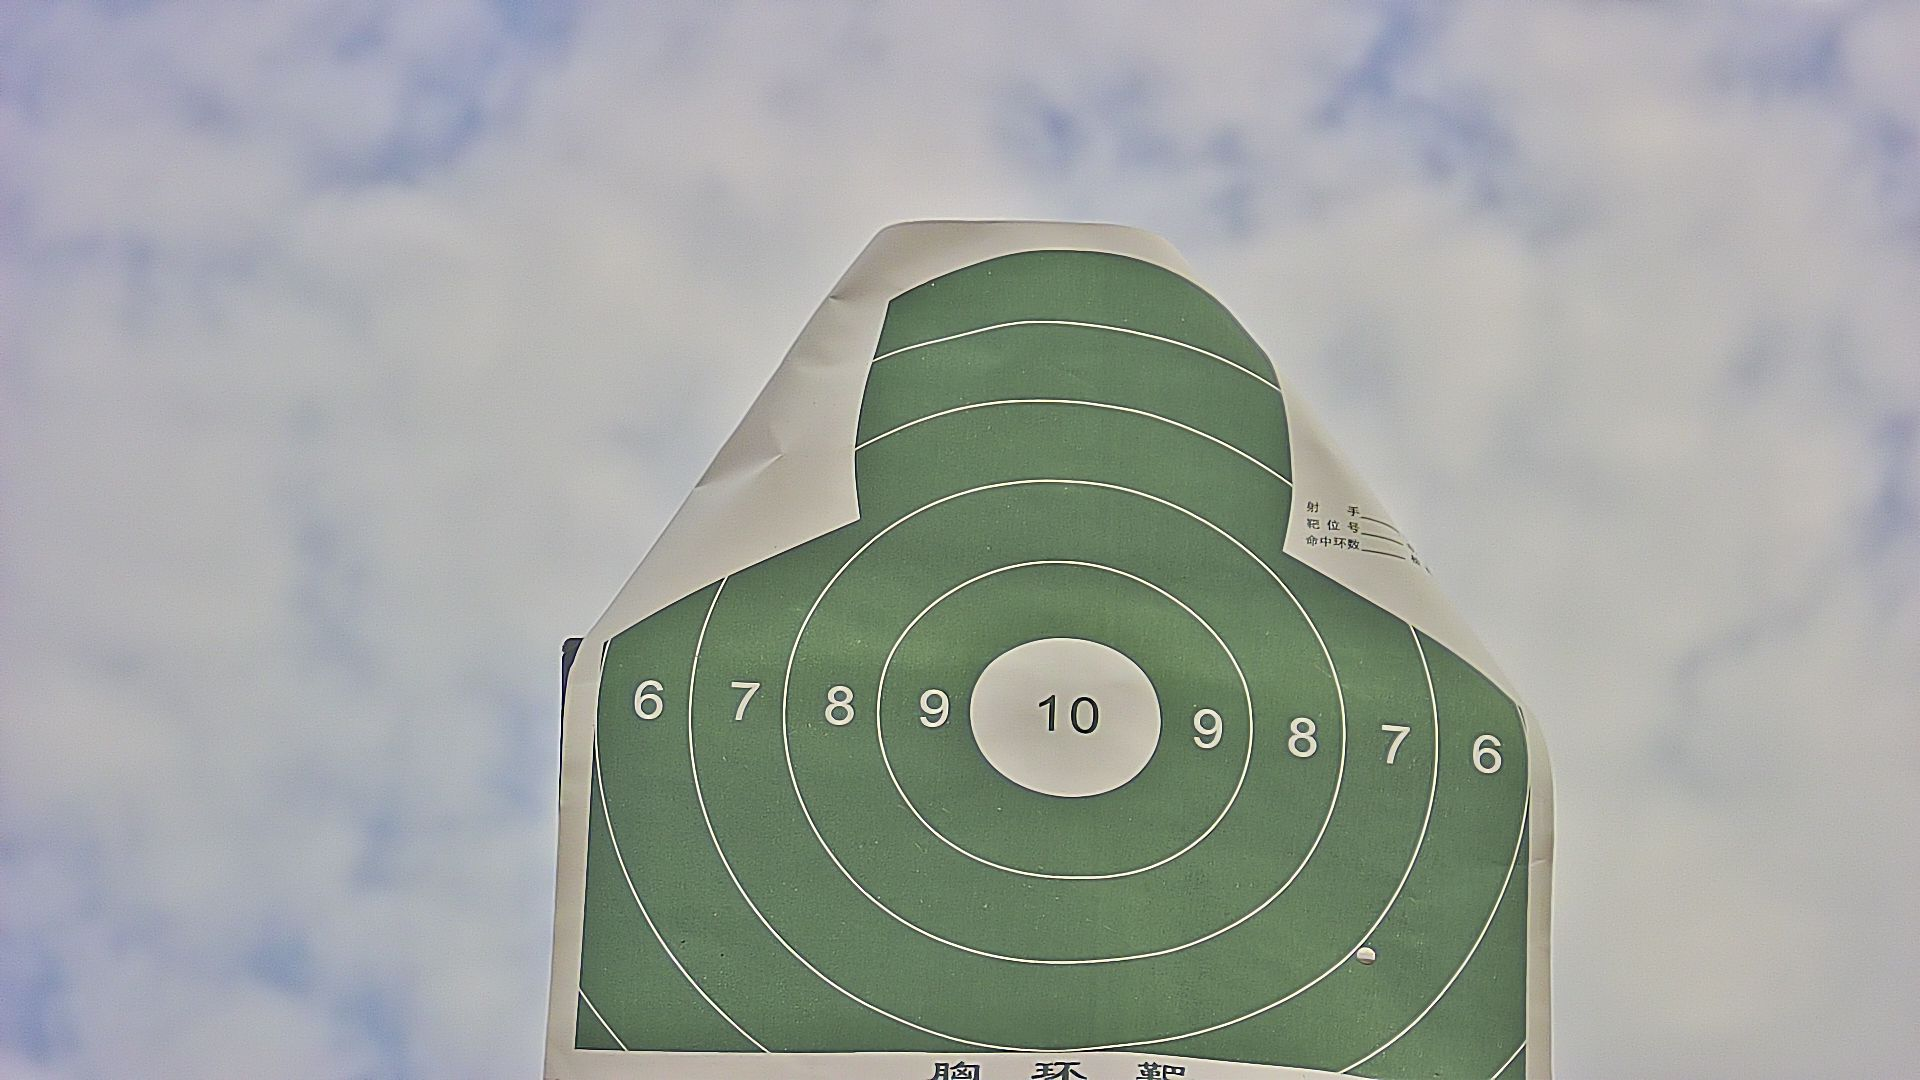kernel: (1062, 709, 1064, 716)
target: (572, 247, 1532, 1080)
ten: (971, 633, 1162, 800)
